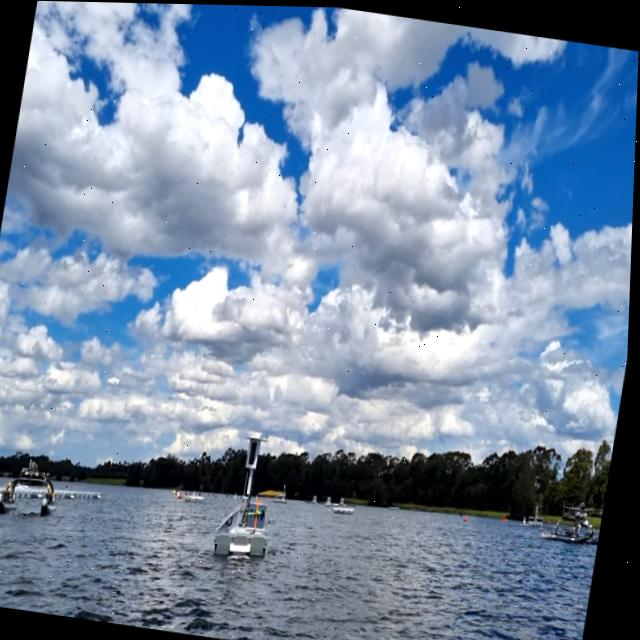led: (250, 438, 262, 465)
